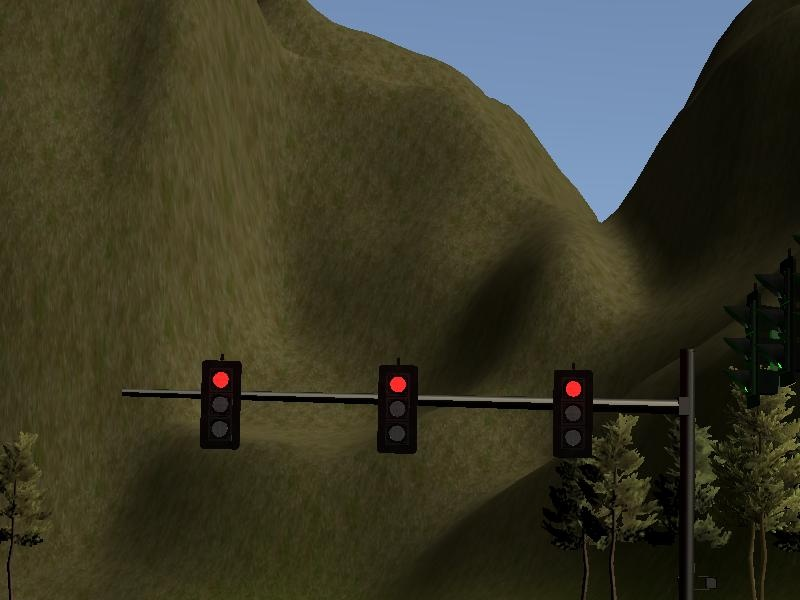RED: (199, 358, 242, 451), (375, 360, 418, 453), (551, 368, 594, 461)
